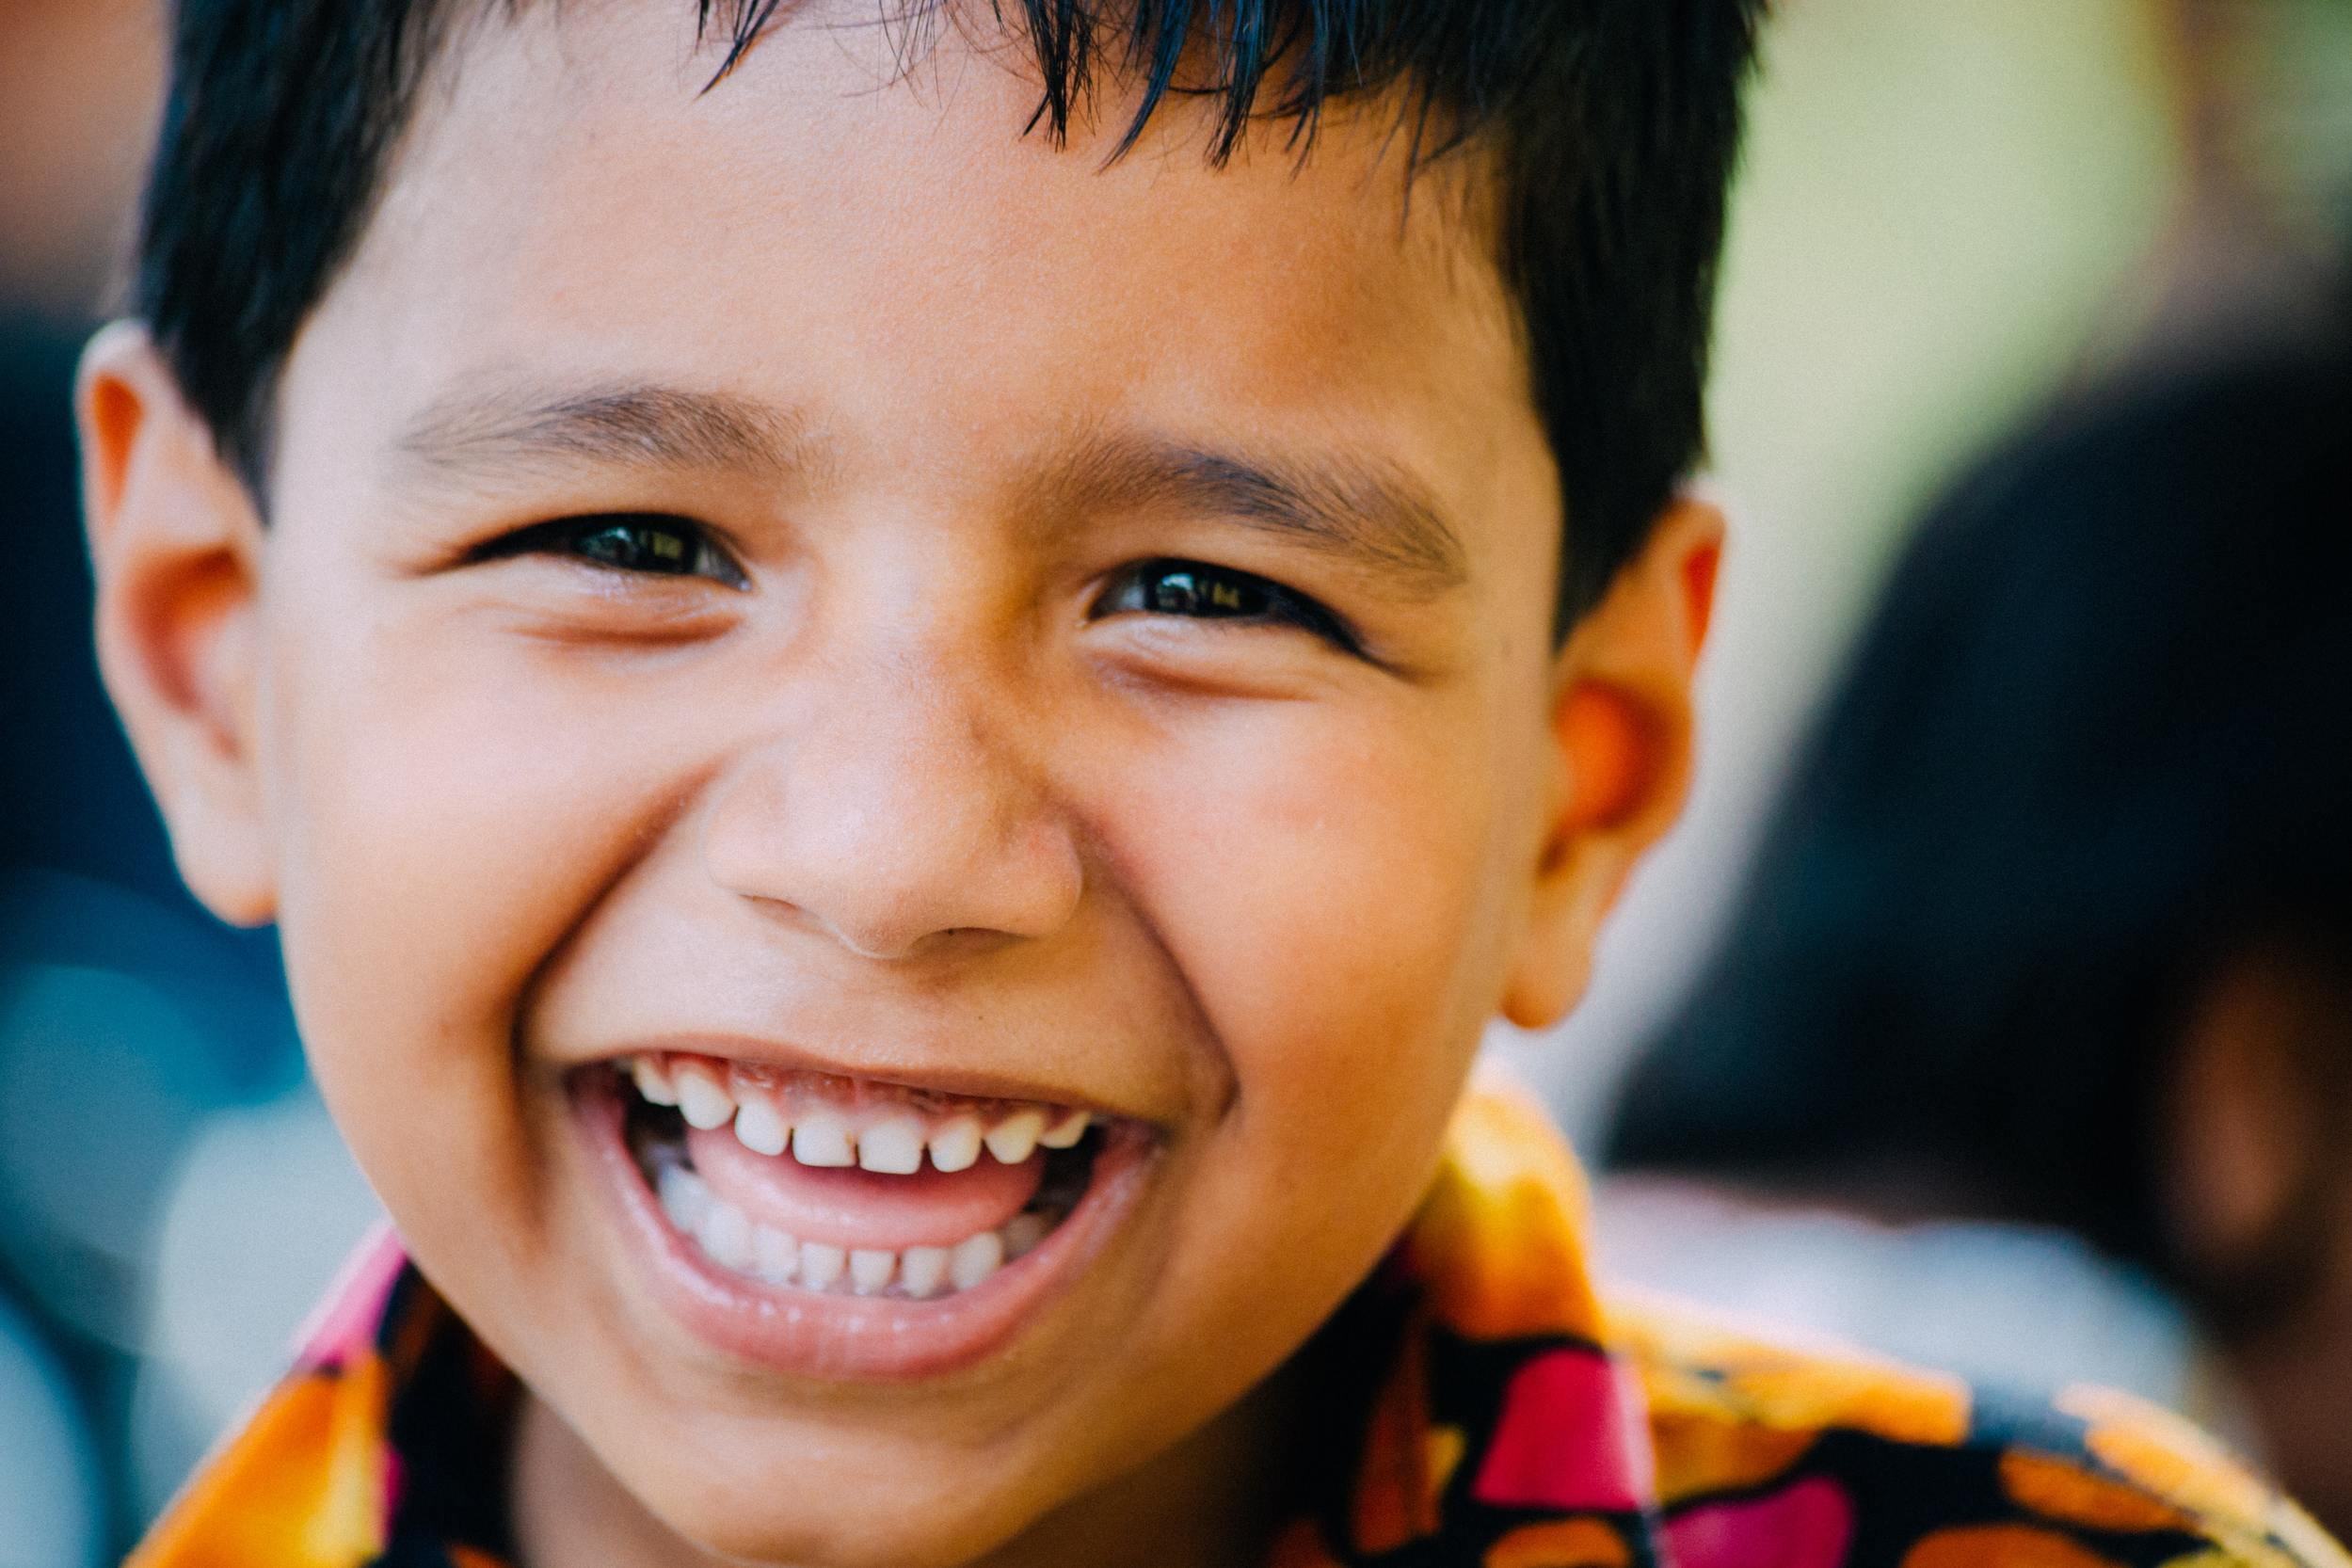human: (47, 1, 2352, 1568)
